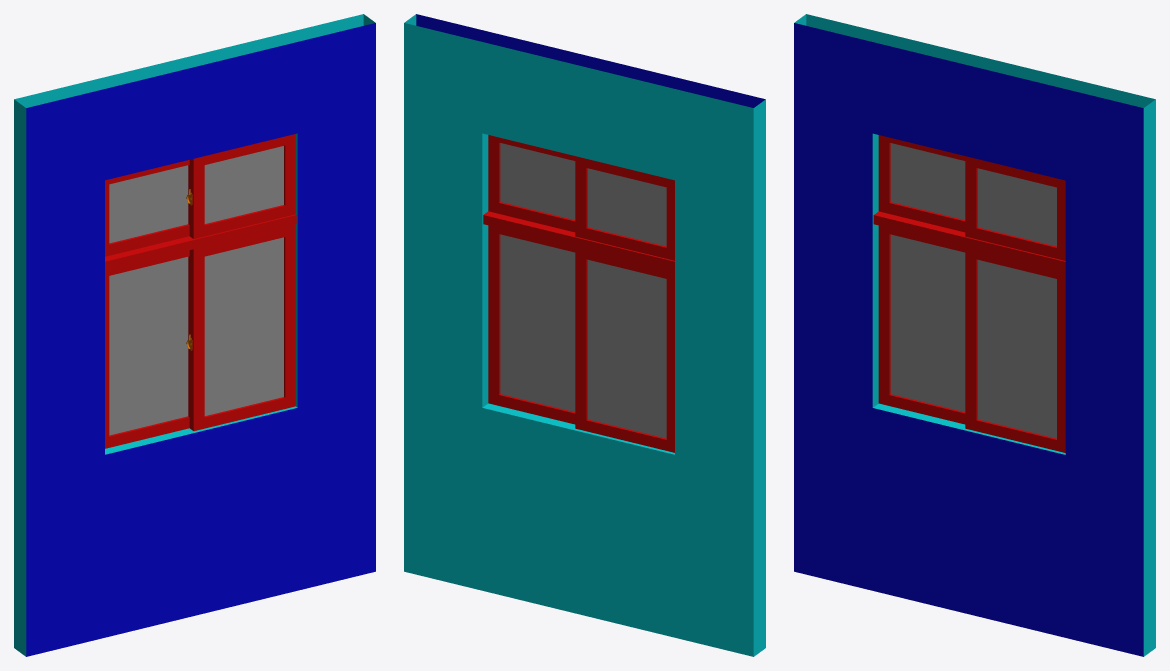
File: inside_windows.FBX
The picture shows the model from 3 angles, left to right: view 1: azimuth 30°, elevation 25°; view 2: azimuth 150°, elevation 25°; view 3: azimuth 330°, elevation 25°; orthographic projection.
Parts seen in each view (by area): view 1: wall_win, glass; view 2: wall_win, glass; view 3: wall_win, glass.
Boxes of the visible parts, x1=… form: wall_win: x1=14, y1=14, x2=375, y2=656; glass: x1=109, y1=146, x2=283, y2=435; wall_win: x1=404, y1=14, x2=765, y2=656; glass: x1=500, y1=143, x2=666, y2=438; wall_win: x1=794, y1=14, x2=1155, y2=656; glass: x1=890, y1=143, x2=1056, y2=438.
Bounding box in the file's own units: 2 × 0.12 × 3.
